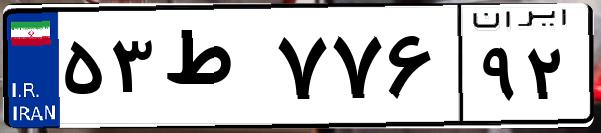2: (525, 38, 570, 115)
3: (110, 28, 158, 98)
5: (57, 26, 110, 100)
6: (385, 28, 445, 110)
7: (270, 28, 330, 110), (330, 28, 385, 110)
9: (475, 38, 525, 113)
ط: (158, 20, 270, 120)
